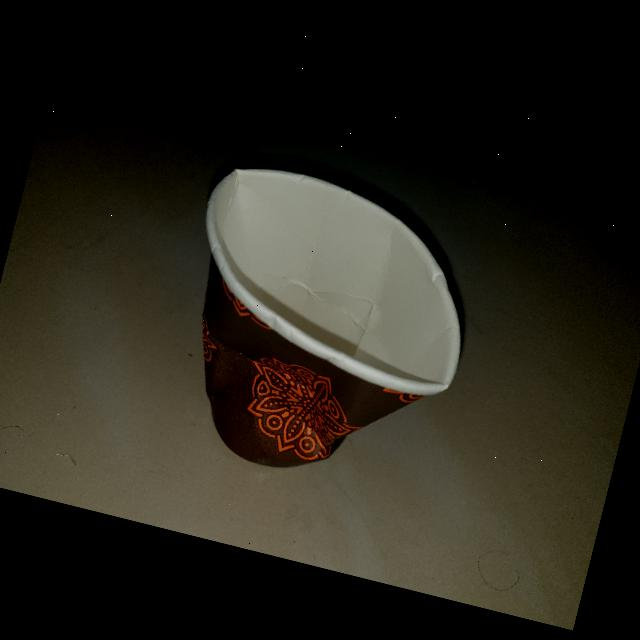trash: (137, 141, 500, 514)
